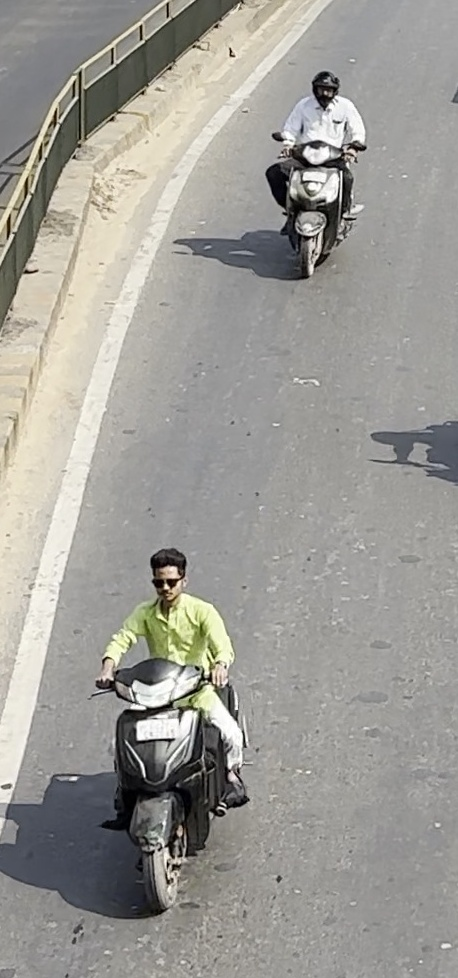BikeWithRider: (82, 541, 259, 919), (258, 62, 373, 284)
Helmet: (304, 65, 346, 110)
NoHelmet: (140, 542, 196, 609)
